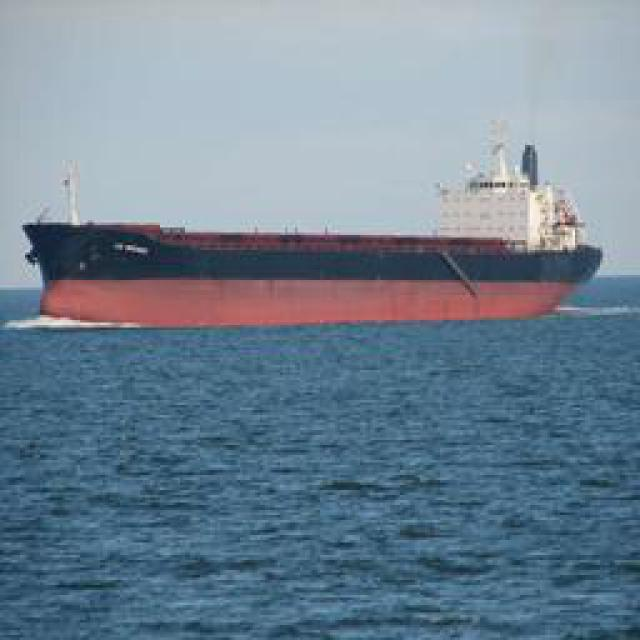Ship: (25, 150, 610, 328)
